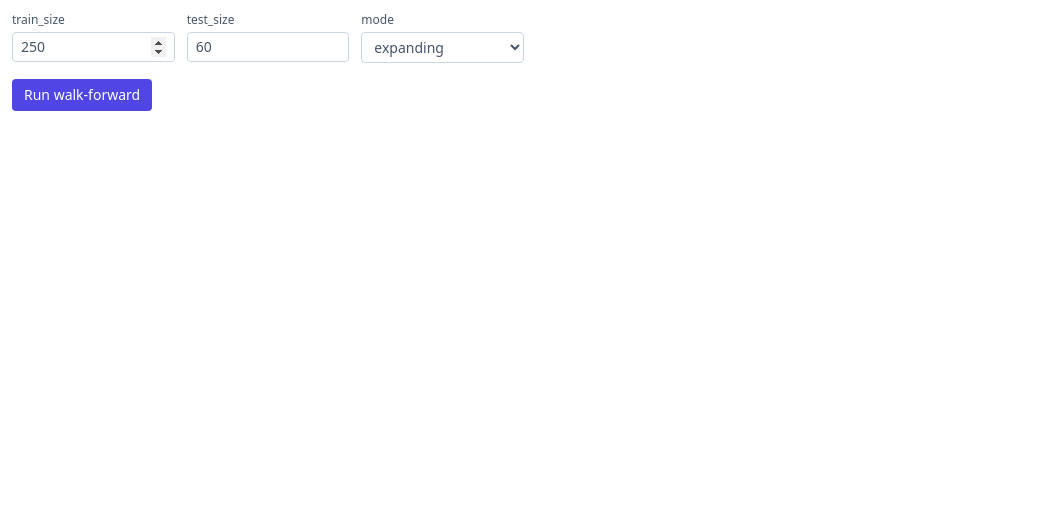
Test case: OOSDecayChart › runs walk-forward and shows aggregate stats
The image size is (1048, 525).
Click the button "Run walk-forward" at (82, 95), box [12,79,152,111]
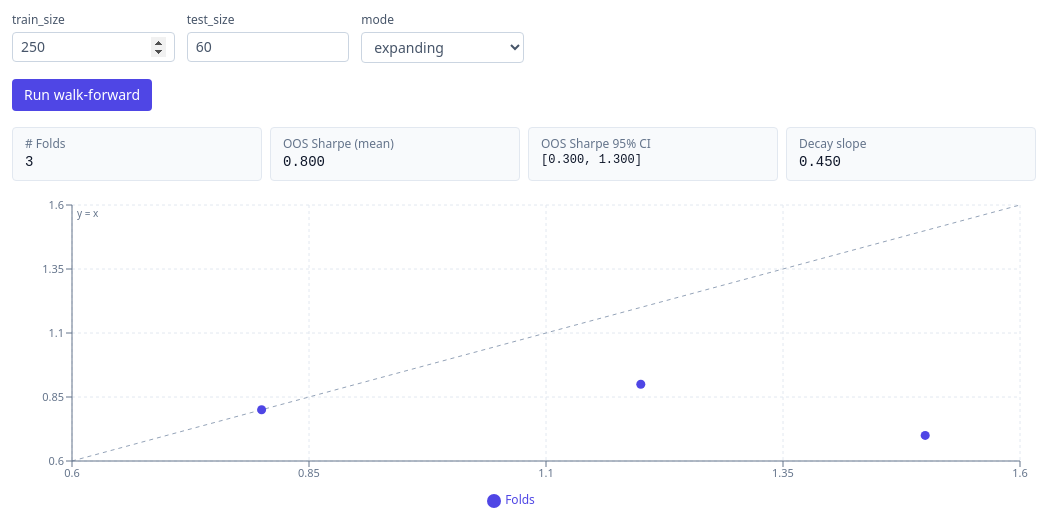
Now the text "3" is shown, box [25,154,33,170]
Now the text "Decay slope" is shown, box [799,135,866,152]
